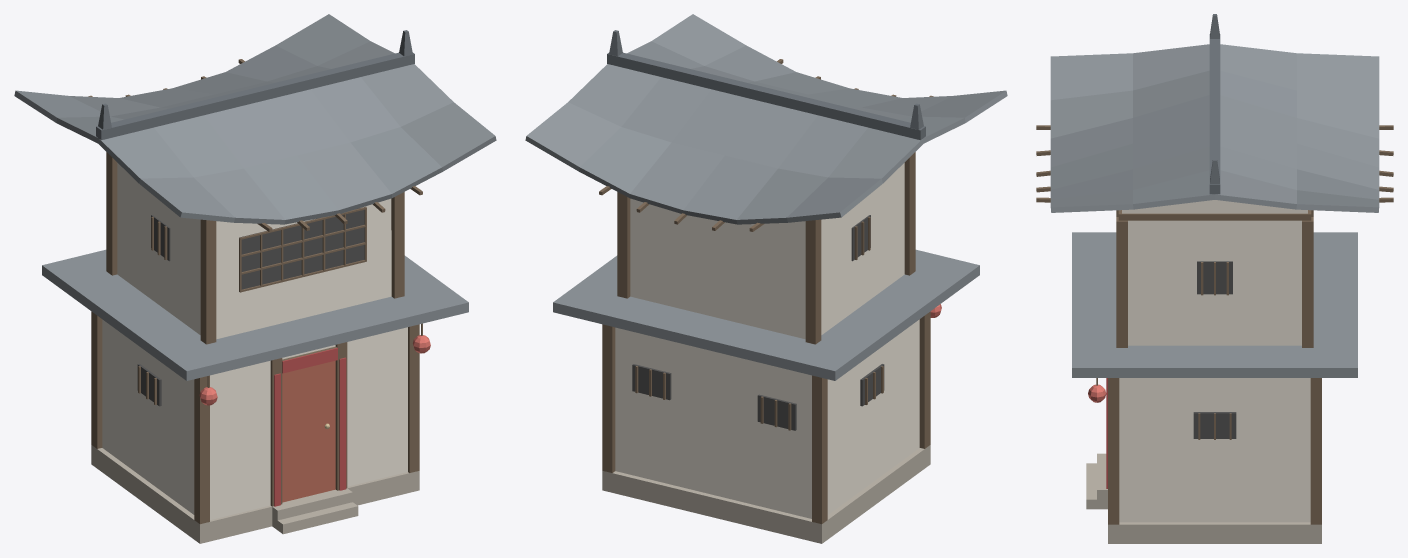
The model's file is Housing_EastAsia_02.fbx.
3 renders of one model, left to right at view 1: azimuth 30°, elevation 25°; view 2: azimuth 150°, elevation 25°; view 3: azimuth 270°, elevation 25°, orthographic.
Parts seen in each view (by area): view 1: Housing_EastAsia_02_Mesh; view 2: Housing_EastAsia_02_Mesh; view 3: Housing_EastAsia_02_Mesh.
Part boxes in pixels (left/top/right/bottom): Housing_EastAsia_02_Mesh: left=14, top=14, right=496, bottom=543; Housing_EastAsia_02_Mesh: left=525, top=14, right=1007, bottom=543; Housing_EastAsia_02_Mesh: left=1036, top=14, right=1393, bottom=543.
Size of the model in its own units: 5.04 by 6.24 by 5.01.
